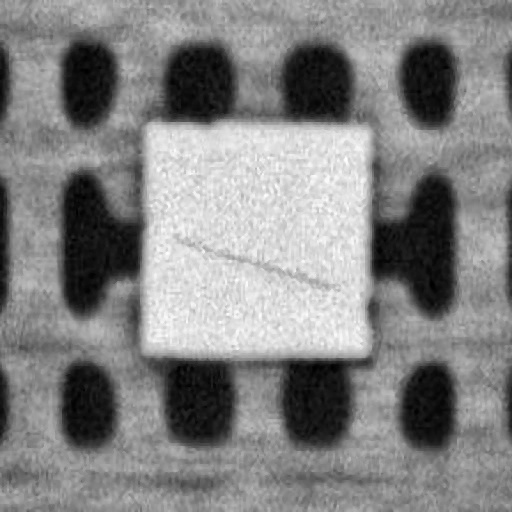DIE_CRACK: (260, 158, 504, 191)
